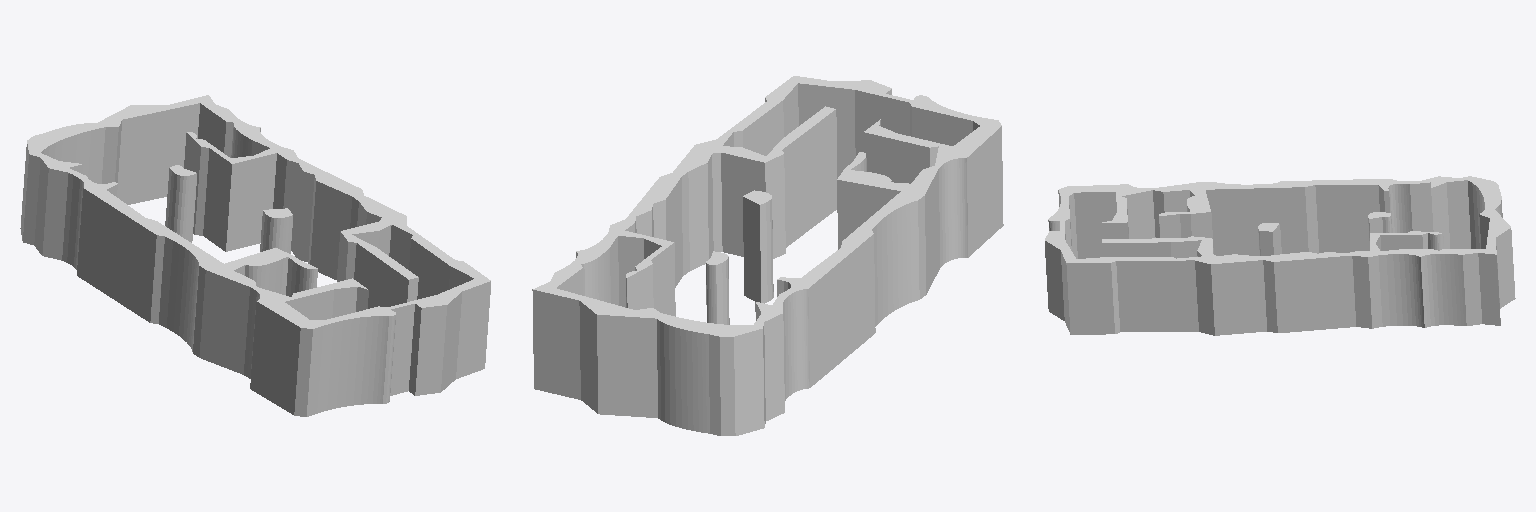
URDF robot description (hospital_map):
<?xml version="1.0"?>
<robot name="hospital_map">

  <link name="map_link">

    <!-- 보이는 용 -->
    <visual>
      <origin xyz="0 0 0" rpy="0 0 0"/>
      <geometry>
        <mesh filename="package://hospital_description/meshes/bases/map_clean.stl"
              scale=" 100 100 100"/>
      </geometry>
      <material name="white">
        <color rgba="0.9 0.9 0.9 1.0"/>
      </material>
    </visual>

    <!-- 충돌 용 -->
    <collision>
      <origin xyz="0 0 0" rpy="0 0 0"/>
      <geometry>
        <mesh filename="package://hospital_description/meshes/bases/map_clean.stl"
              scale=" 100 100 100"/>
      </geometry>
    </collision>

    <!-- 고정 오브젝트라 관성은 경고 방지용으로만 -->
    <inertial>
      <origin xyz="0 0 0" rpy="0 0 0"/>
      <mass value="1.0"/>
      <inertia ixx="0.01" ixy="0" ixz="0"
               iyy="0.01" iyz="0"
               izz="0.01"/>
    </inertial>

  </link>

</robot>

--- Facts derived from the render (not from the file) ---
Views: 3 orthographic renders of the robot side by side, from view 1: azimuth 30°, elevation 25°; view 2: azimuth 150°, elevation 25°; view 3: azimuth 270°, elevation 25°.
Robot: hospital_map — 1 links, 0 joints (none); root link map_link; default pose: every joint at zero.
Links seen in each view (by area): view 1: map_link; view 2: map_link; view 3: map_link.
Boxes of the visible links, x1,y1,x2,y2 form: map_link: (20,95,490,416); map_link: (532,76,1003,435); map_link: (1045,176,1515,335).
Size in the robot's own frame: 1.26 by 2.78 by 0.4767 metres.
Meshes: 1 distinct files referenced, 1 mesh visuals loaded (1 binary STL).
